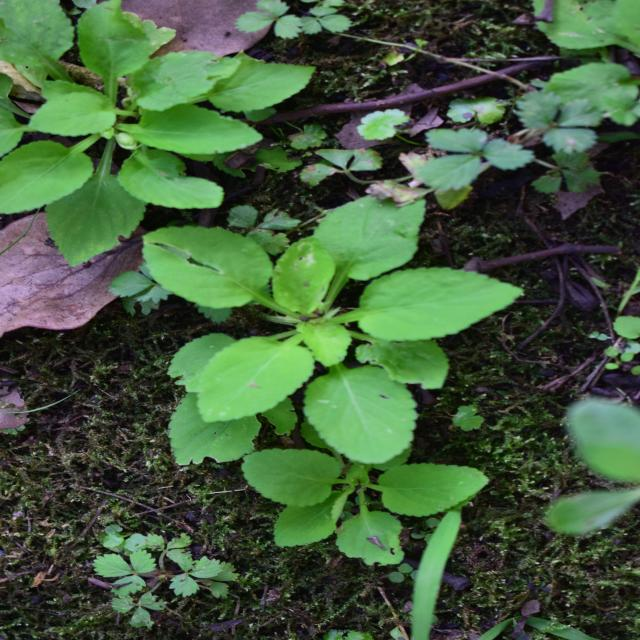Viola: (200, 150, 442, 497), (396, 0, 640, 292), (57, 225, 223, 499)
